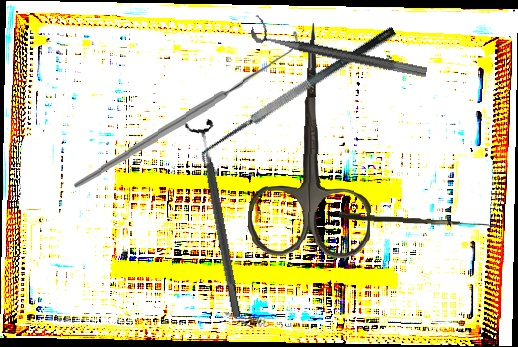Fixation Ring: (183, 117, 252, 321), (249, 14, 431, 79)
Hook Surgical: (68, 30, 304, 191), (338, 212, 496, 227)
Iris Scissors: (246, 20, 378, 260)
Spatula Surgical: (191, 24, 407, 172)
